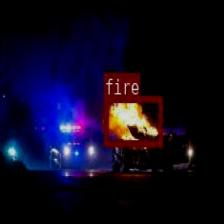fire: (104, 95, 162, 146)
